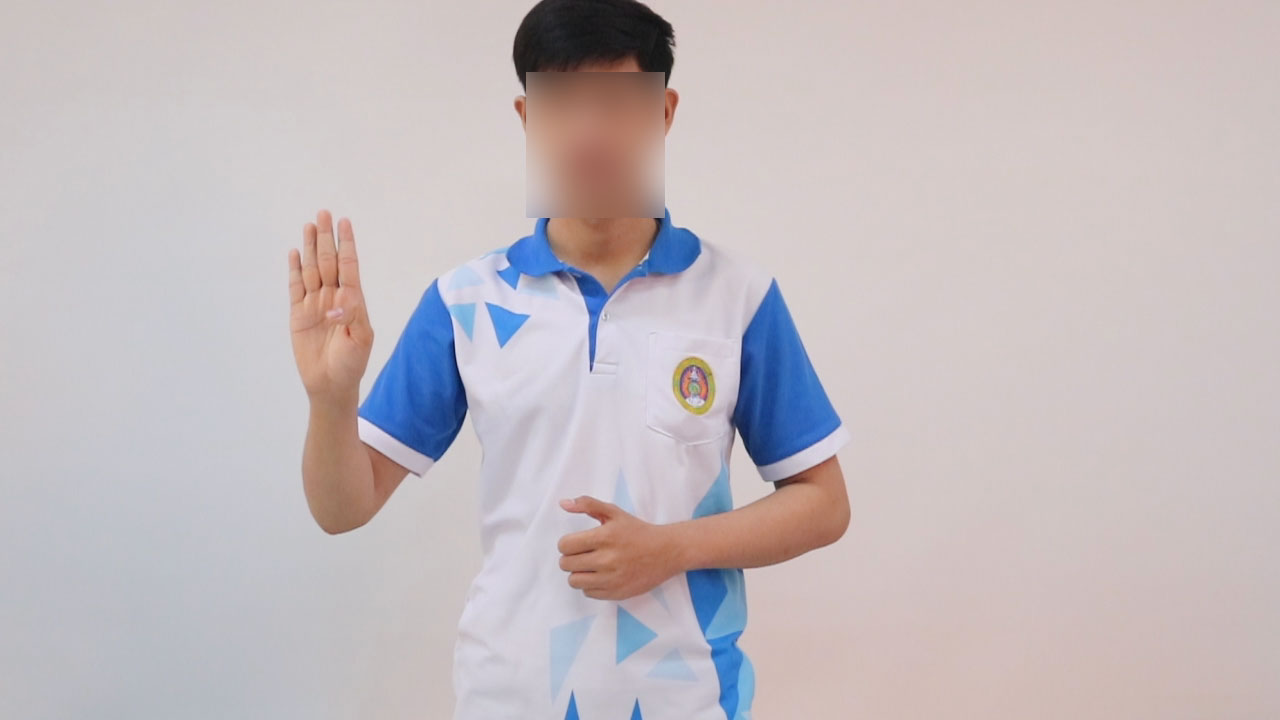bor: (269, 190, 388, 422)
